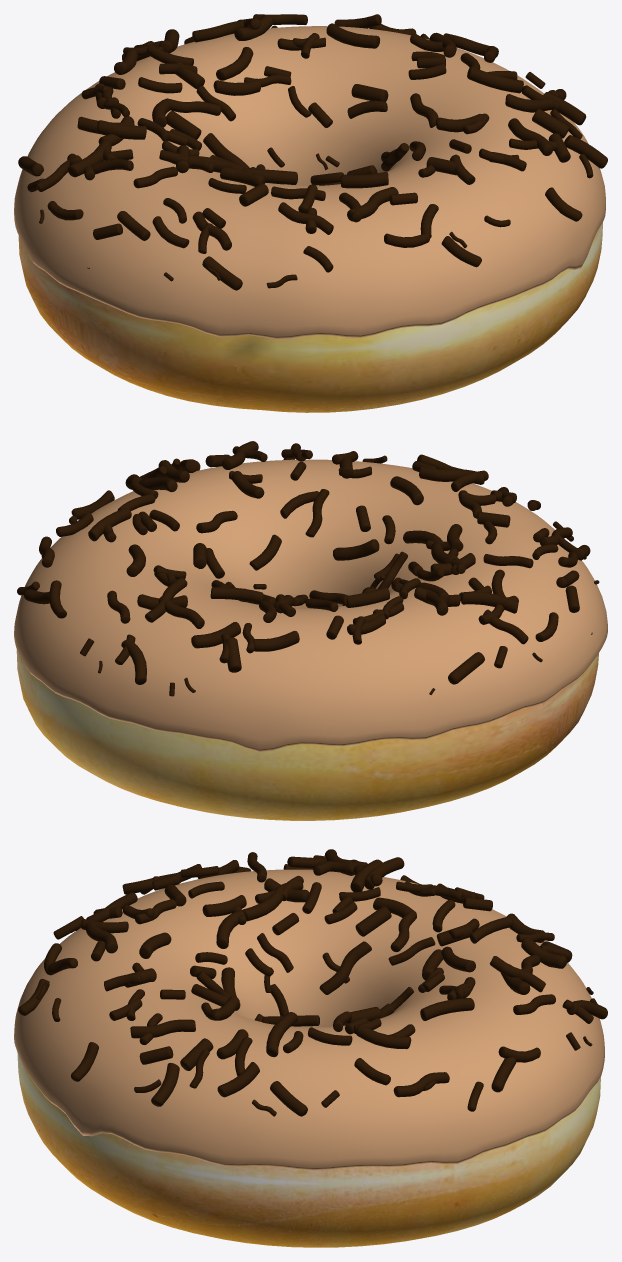
Rendered from light chocolate vermicheli.glb.
The picture shows the model from 3 angles, top to bottom: view 1: azimuth 30°, elevation 25°; view 2: azimuth 150°, elevation 25°; view 3: azimuth 270°, elevation 25°; orthographic projection. The views are drawn at different scales.
Visible parts, largest first — view 1: chocolate.004, w chocolate, Torus; view 2: chocolate.004, Torus, w chocolate; view 3: chocolate.004, w chocolate, Torus.
Part boxes in pixels (x1=…): chocolate.004: x1=14, y1=26, x2=605, y2=339; w chocolate: x1=18, y1=14, x2=607, y2=290; Torus: x1=18, y1=222, x2=602, y2=412; chocolate.004: x1=14, y1=459, x2=607, y2=752; Torus: x1=16, y1=649, x2=598, y2=820; w chocolate: x1=17, y1=441, x2=599, y2=696; chocolate.004: x1=14, y1=869, x2=604, y2=1170; w chocolate: x1=18, y1=849, x2=607, y2=1116; Torus: x1=17, y1=1052, x2=600, y2=1247.
Bounding box in the file's own units: 0.1988 × 0.0811 × 0.198.
3 materials, 1 textured.
